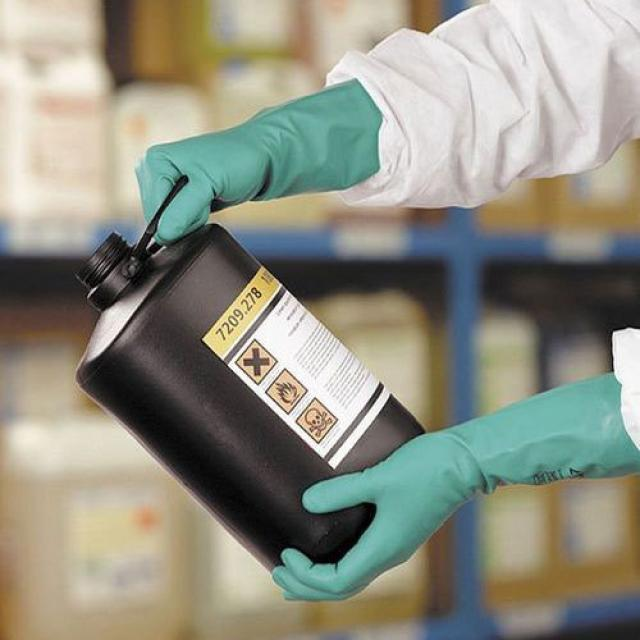gloves: (271, 372, 640, 603), (138, 78, 386, 241)
